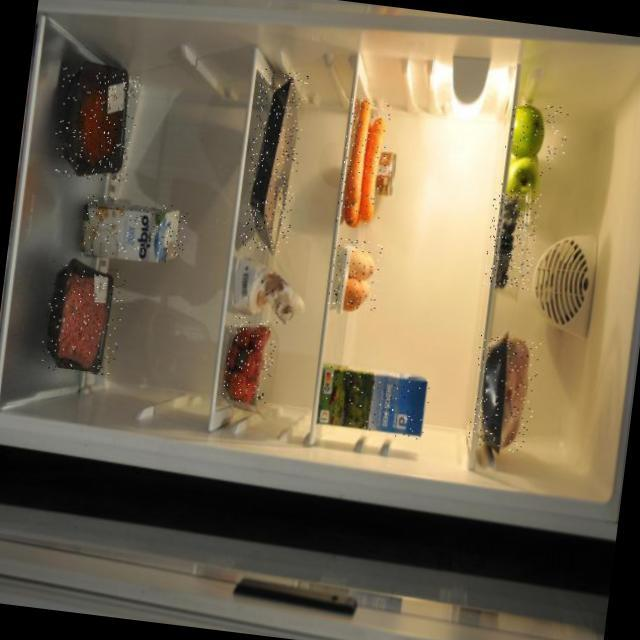Carne pollo: (466, 335, 540, 454)
Huevos: (326, 238, 382, 311)
Manzana: (499, 97, 569, 171), (495, 144, 547, 217)
Tomate: (221, 315, 277, 404)
Zanahoria: (335, 98, 392, 226)
meat: (238, 68, 308, 253), (49, 65, 140, 184), (38, 261, 126, 377)
milk: (314, 364, 431, 440), (79, 193, 188, 265)
olive: (482, 186, 540, 289)
